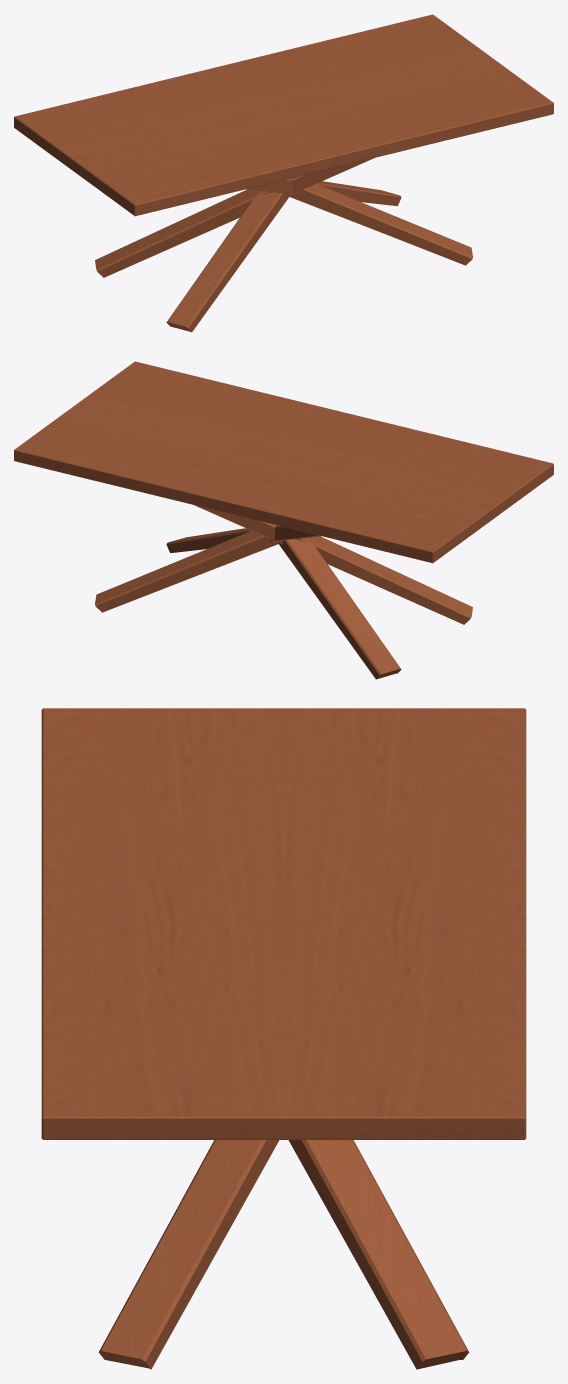
The model's file is rectangular-cherry.glb.
3 renders of one model, top to bottom at view 1: azimuth 30°, elevation 25°; view 2: azimuth 150°, elevation 25°; view 3: azimuth 270°, elevation 25°, orthographic. The views are drawn at different scales.
Visible parts, largest first — view 1: Top_target, Base_target; view 2: Top_target, Base_target; view 3: Top_target, Base_target.
Boxes of the visible parts, x1,y1,x2,y2 form: Top_target: (14, 14, 553, 216); Base_target: (95, 158, 472, 332); Top_target: (14, 361, 553, 563); Base_target: (95, 505, 472, 679); Top_target: (41, 708, 526, 1139); Base_target: (98, 1140, 469, 1369).
Bounding box in the file's own units: 2.13 × 0.762 × 1.07.
Materials: 1 (1 with a texture image).
